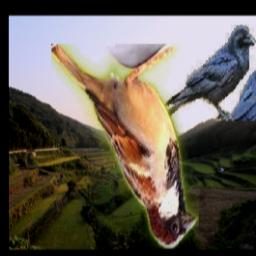Crow: (162, 26, 256, 122)
Sparrow: (50, 44, 198, 249)
